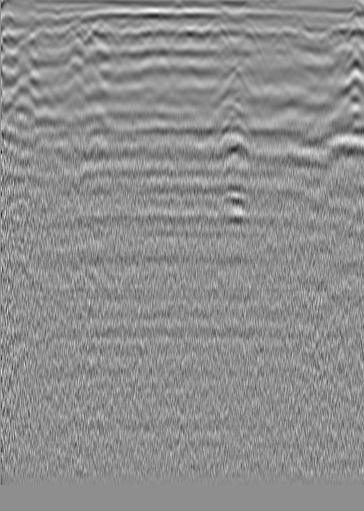가스: (208, 116, 250, 161)
상수: (314, 31, 334, 51)
오수: (30, 25, 55, 47)
우수: (146, 20, 166, 40)
